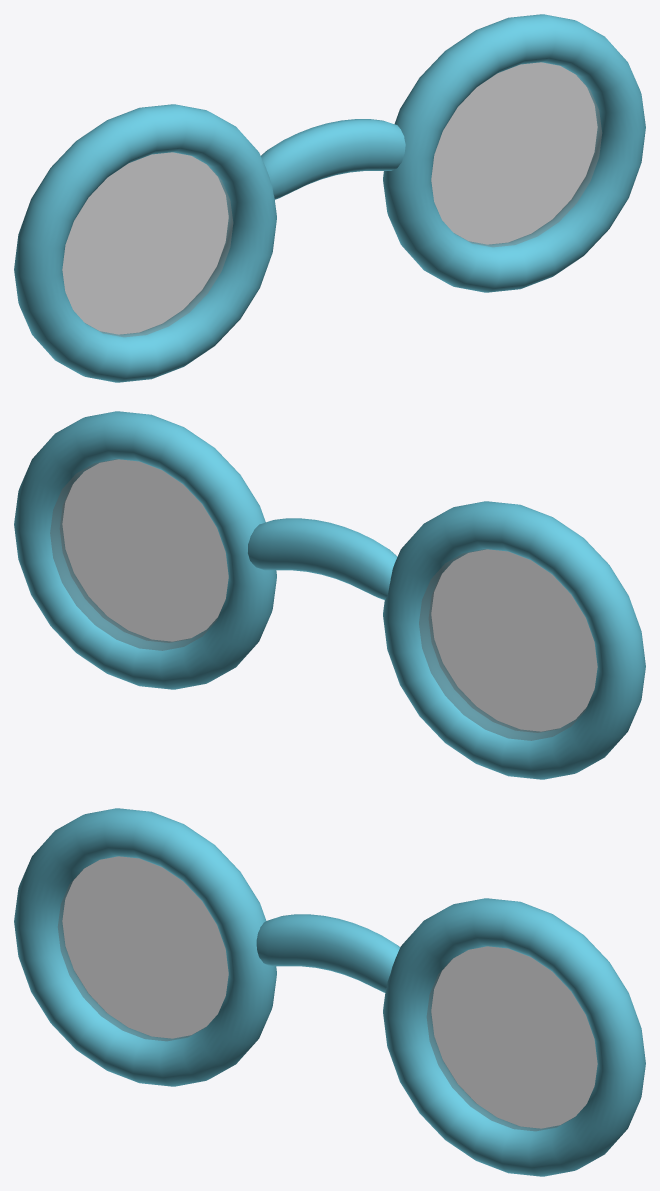
File: ogre_glasses_v001.fbx
3 views of the same model, one above another, from view 1: azimuth 30°, elevation 25°; view 2: azimuth 150°, elevation 25°; view 3: azimuth 330°, elevation 25° (orthographic).
Visible parts, largest first — view 1: ogre_eyeglasses; view 2: ogre_eyeglasses; view 3: ogre_eyeglasses.
Boxes of the visible parts, x1,y1,x2,y2 form: ogre_eyeglasses: (14, 14, 645, 382); ogre_eyeglasses: (14, 411, 645, 779); ogre_eyeglasses: (14, 808, 645, 1176).
Size of the model in its own units: 35.66 by 14.62 by 2.45.
